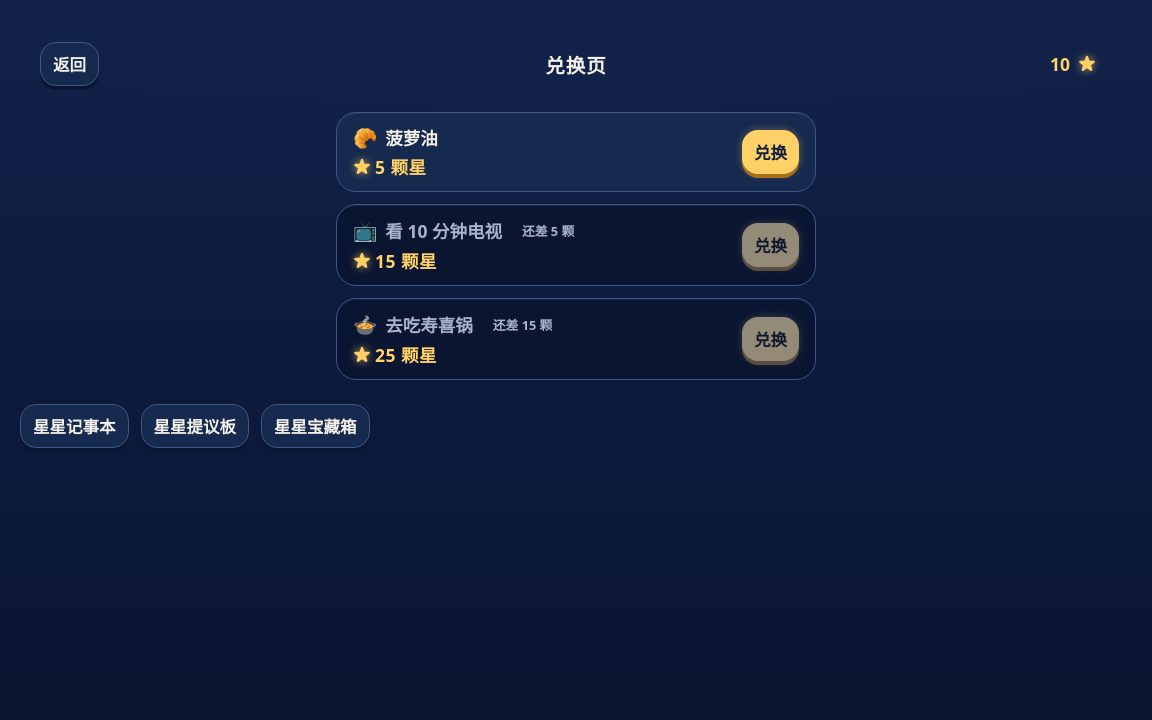
Test: AC7-4 / AC7-5 确认兑换 › AC7-4 确认：写 redeem 流水 + toast + 余额更新为 5
The image size is (1152, 720).
Click the button with class "star-reward-redeem" in the row of "菠萝油" at (770, 152), box [742, 130, 799, 174]
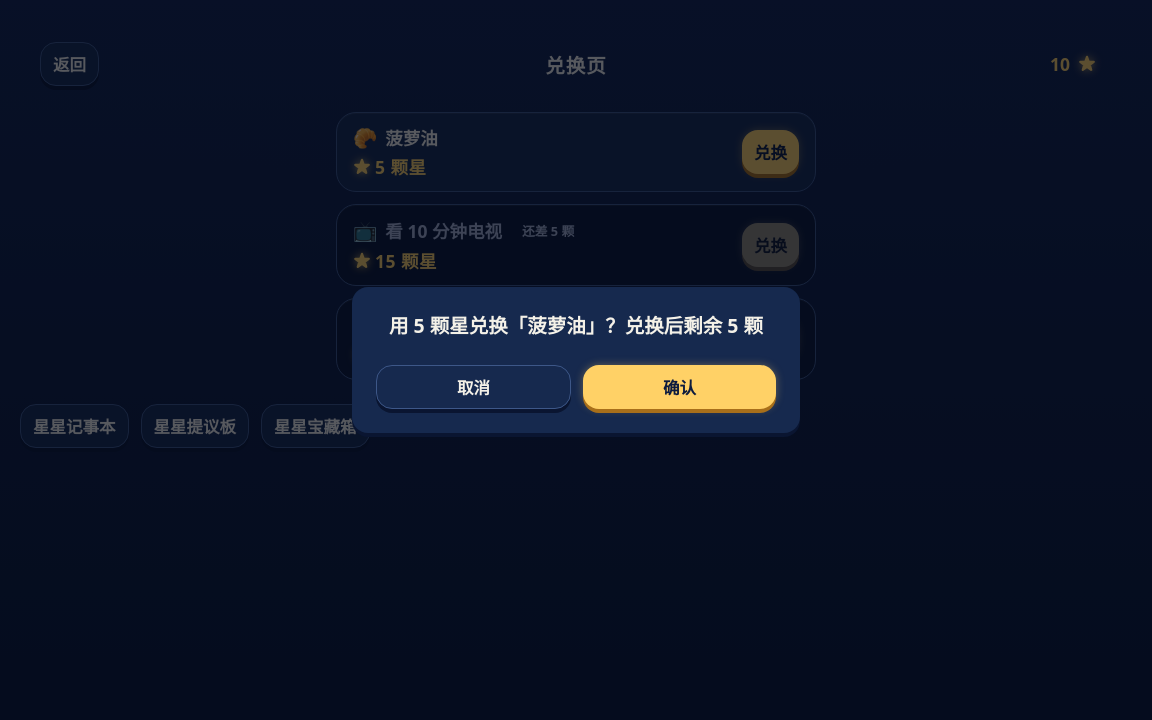
Click the button with class "star-button--primary" showing "确认" at (680, 387), box [583, 365, 776, 409]
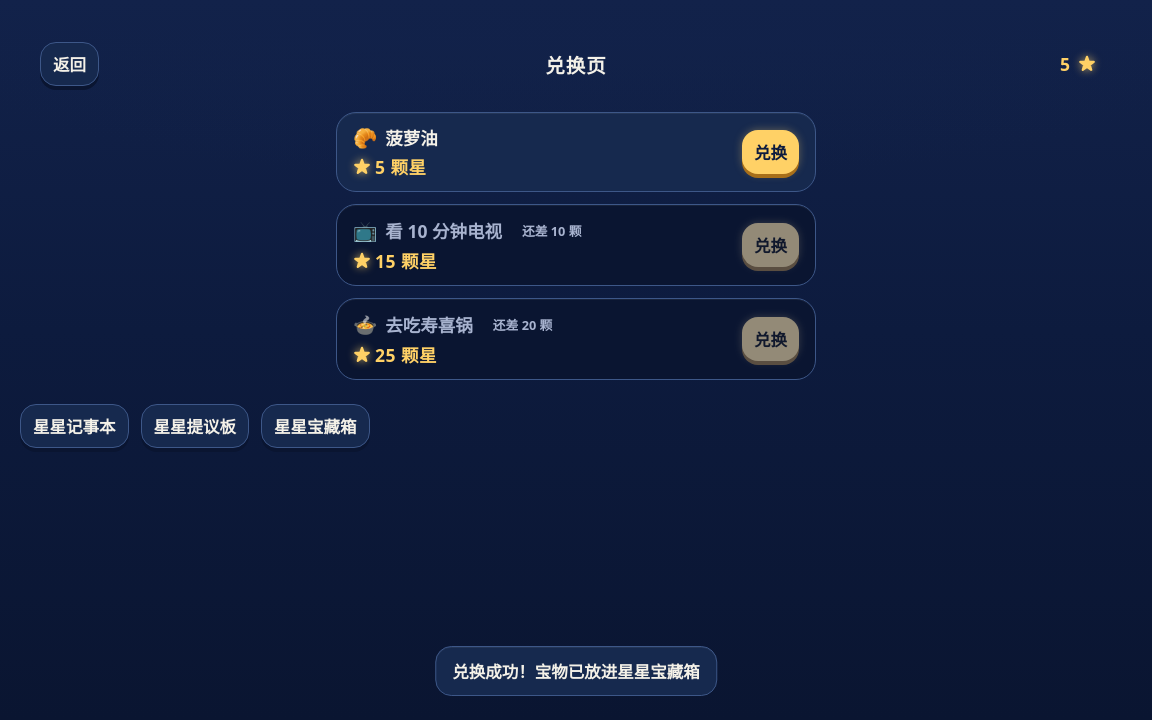
Expected: the message with class "toast" reads "兑换成功！宝物已放进星星宝藏箱", [452, 660, 700, 683]
Expected: the message with class "balance-chip" reads "5", [1060, 52, 1070, 76]
